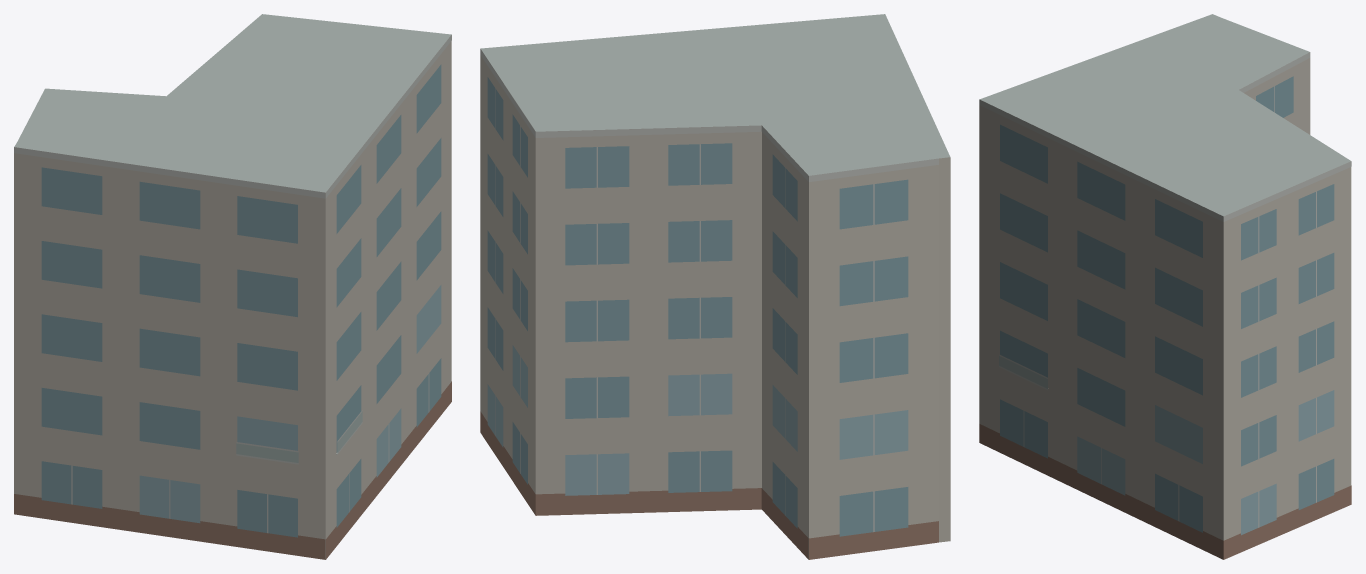
Rendered from survey-upis-32840157.glb.
3 renders of one model, left to right at view 1: azimuth 30°, elevation 25°; view 2: azimuth 150°, elevation 25°; view 3: azimuth 270°, elevation 25°, orthographic. The views are drawn at different scales.
Parts seen in each view (by area): view 1: survey-upis-32840157.tmp; view 2: survey-upis-32840157.tmp; view 3: survey-upis-32840157.tmp.
Boxes of the visible parts, bbox=[...] form: survey-upis-32840157.tmp: bbox=[14, 14, 451, 559]; survey-upis-32840157.tmp: bbox=[480, 14, 950, 559]; survey-upis-32840157.tmp: bbox=[979, 14, 1351, 559].
Size of the model in its own units: 18.75 by 14.83 by 14.57.
